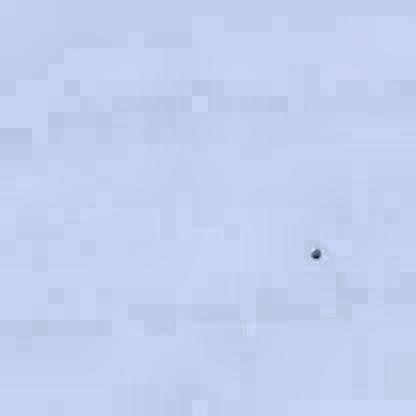golfball: (307, 241, 320, 257)
